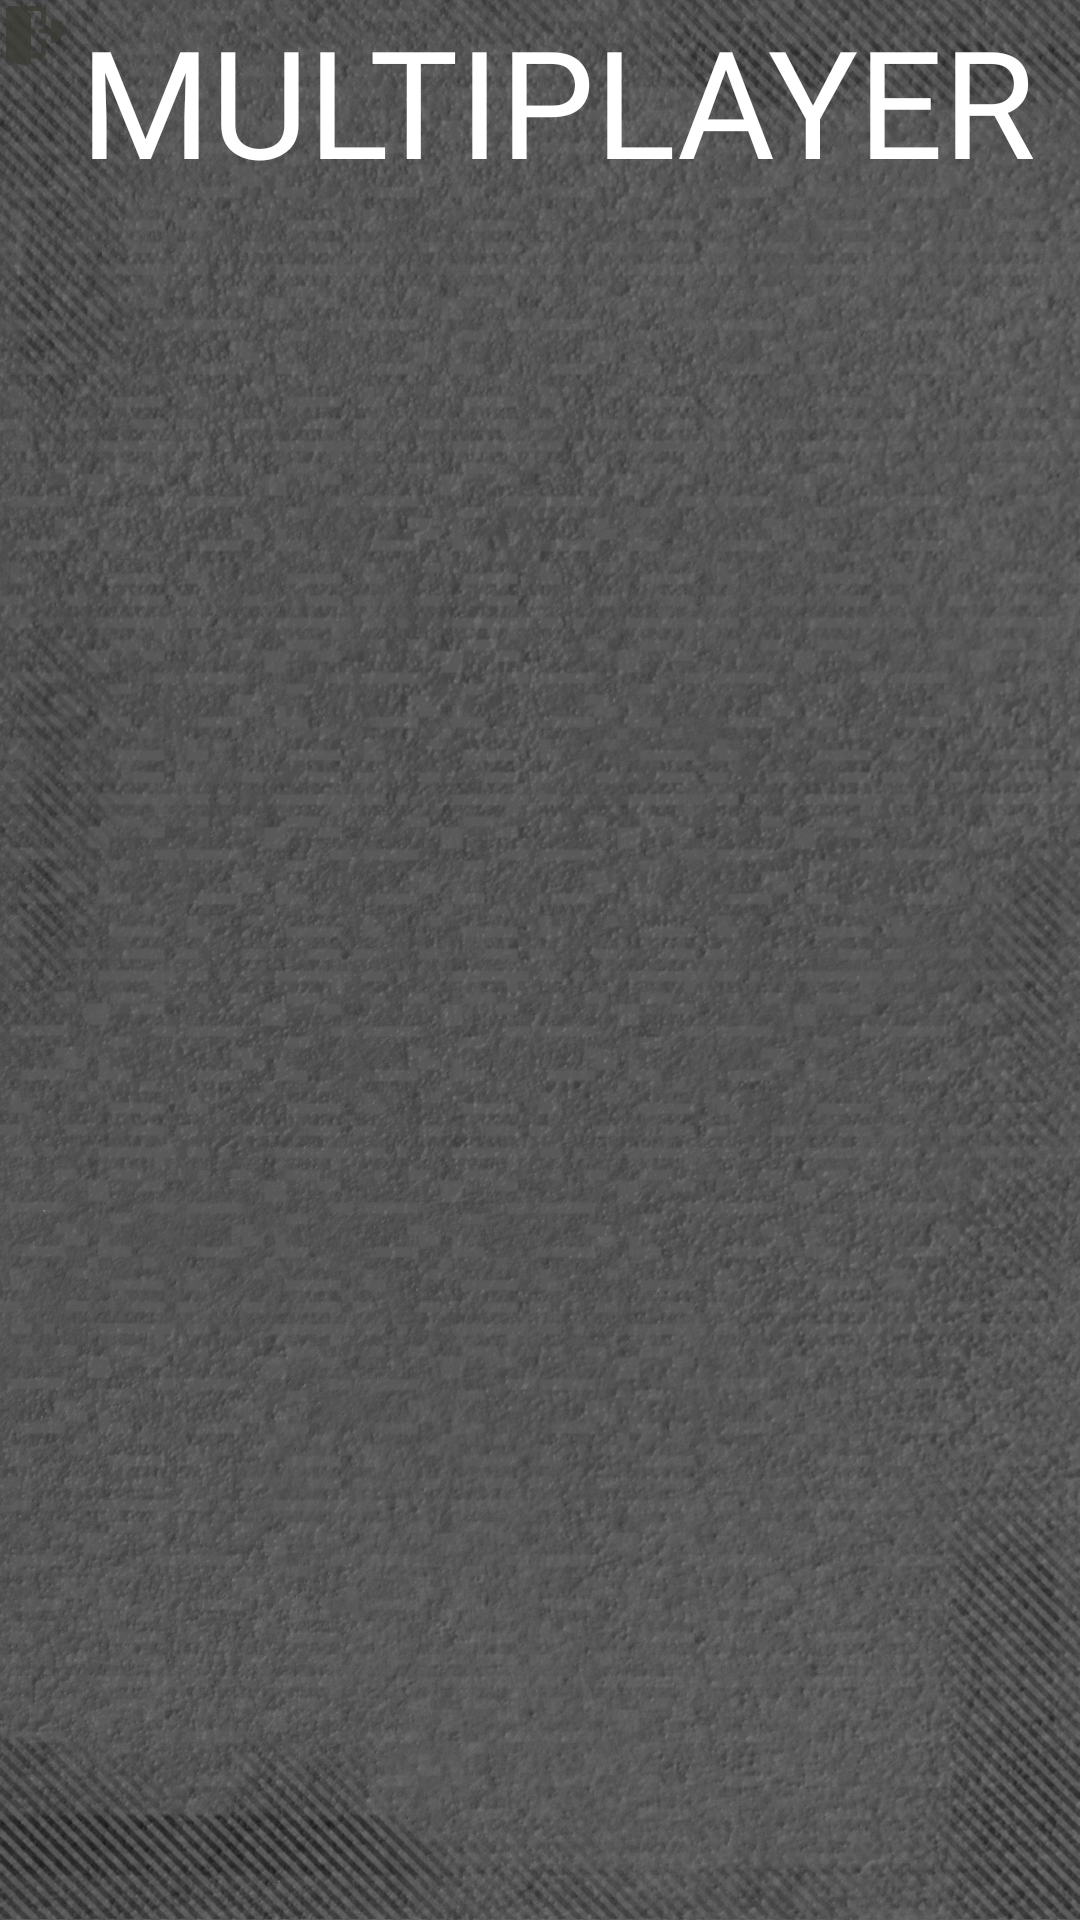

Icons on this 1080px×1920px Android screen, each with the point to tap as point (x, y):
back: point (36, 36)
